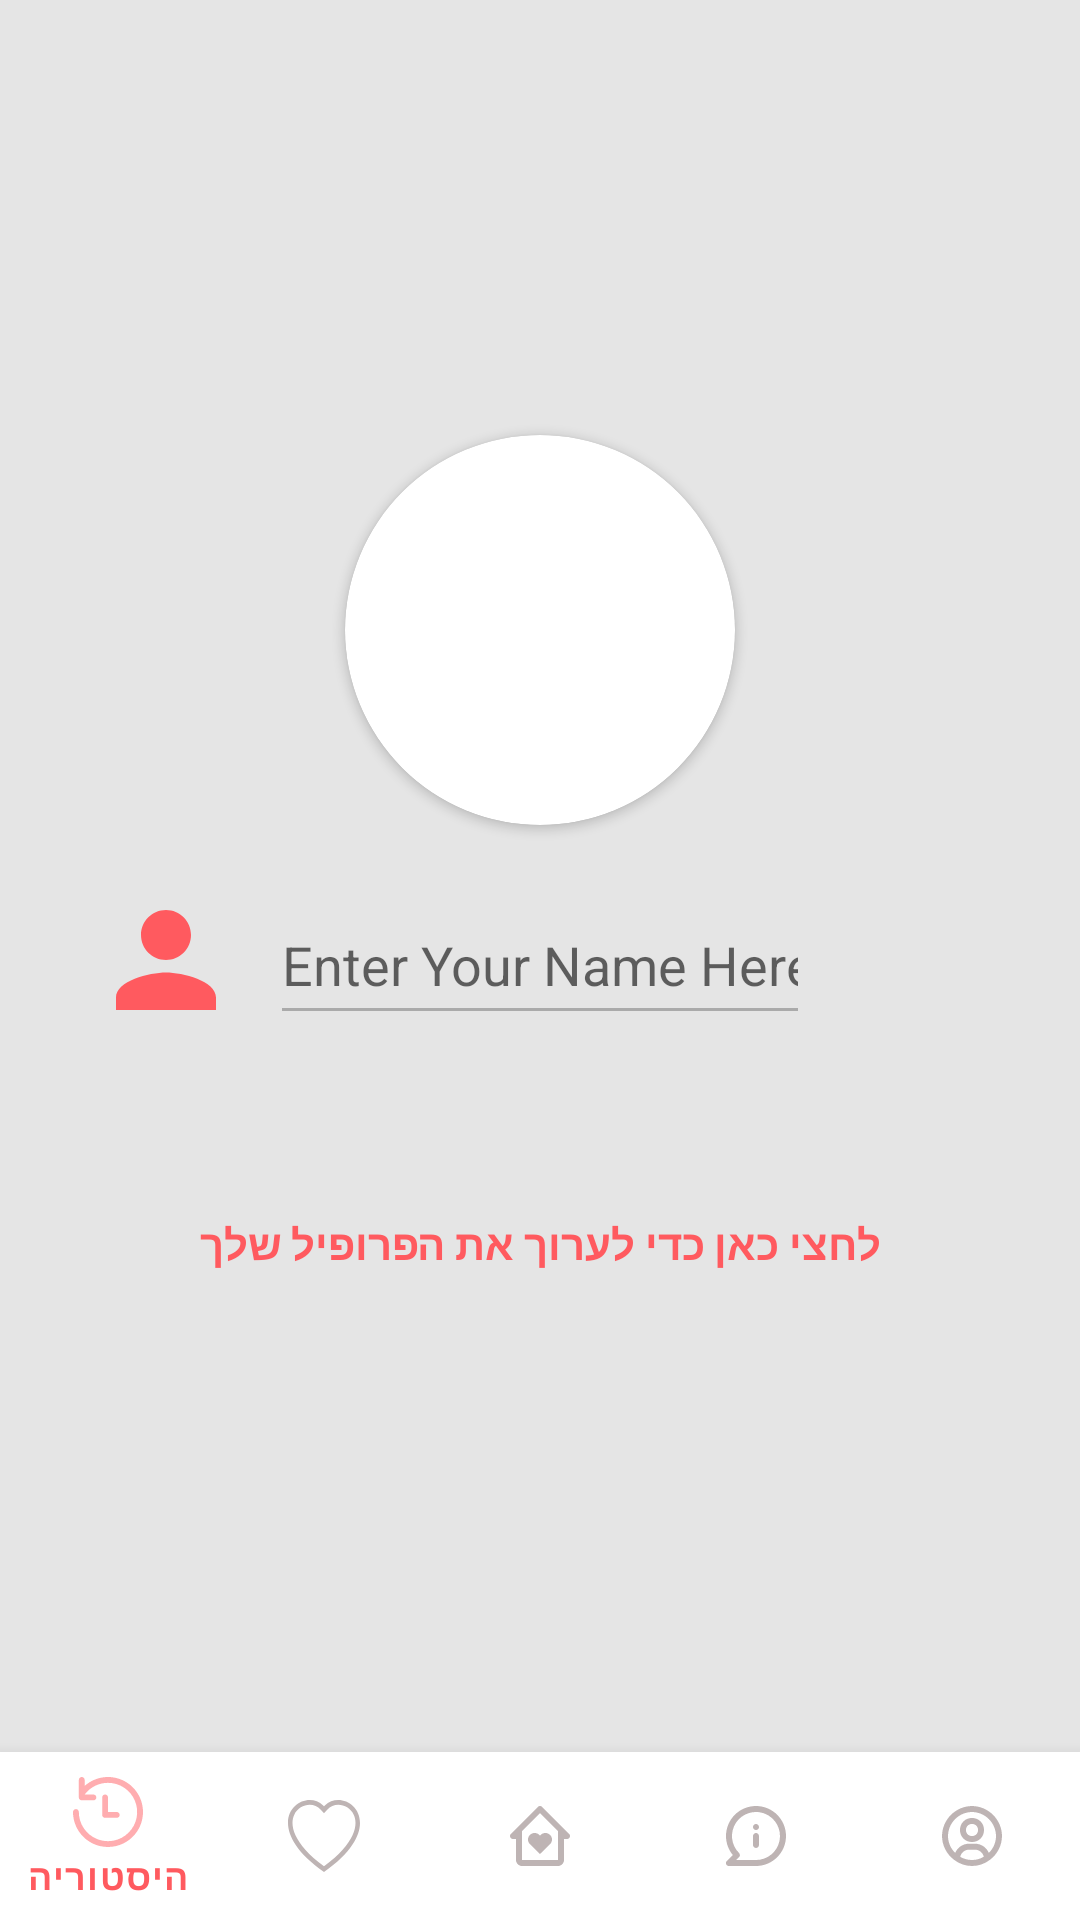

Icon bounding boxes for this 1080w x 1920h phone screenshot, format (x1, y1, x2, y2):
person: (116, 910, 216, 1010)
